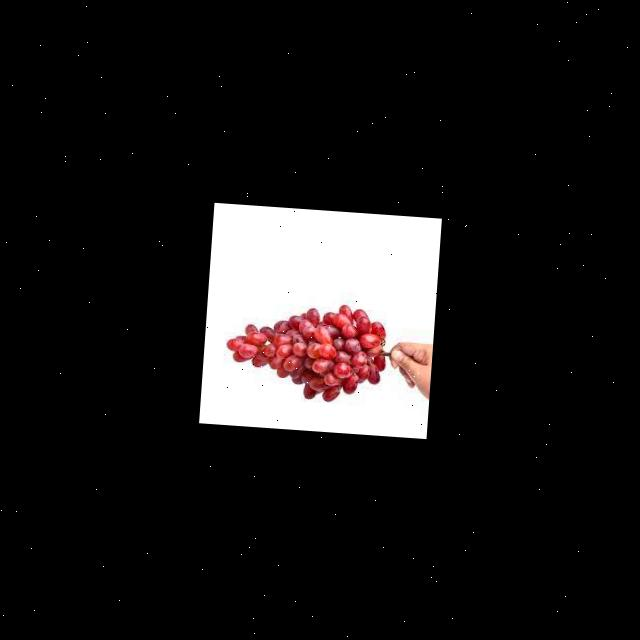grape: (222, 295, 394, 405)
